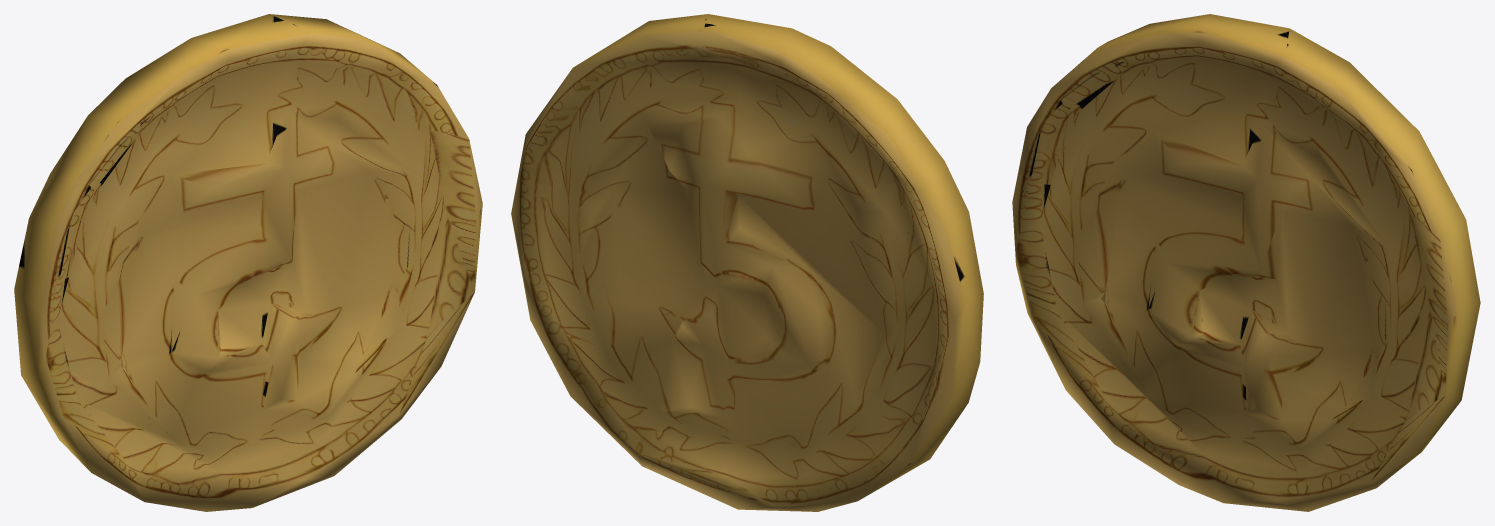
The model's file is Coin.fbx.
3 views of the same model, side by side, from view 1: azimuth 30°, elevation 25°; view 2: azimuth 150°, elevation 25°; view 3: azimuth 330°, elevation 25° (orthographic).
Visible parts, largest first — view 1: tripo_node_2af4b189; view 2: tripo_node_2af4b189; view 3: tripo_node_2af4b189.
Boxes of the visible parts, left/top/right/bottom form: tripo_node_2af4b189: left=14, top=14, right=482, bottom=511; tripo_node_2af4b189: left=511, top=14, right=983, bottom=511; tripo_node_2af4b189: left=1012, top=14, right=1480, bottom=511.
Bounding box in the file's own units: 99.82 × 99.47 × 10.69.
1 material, 1 textured.
